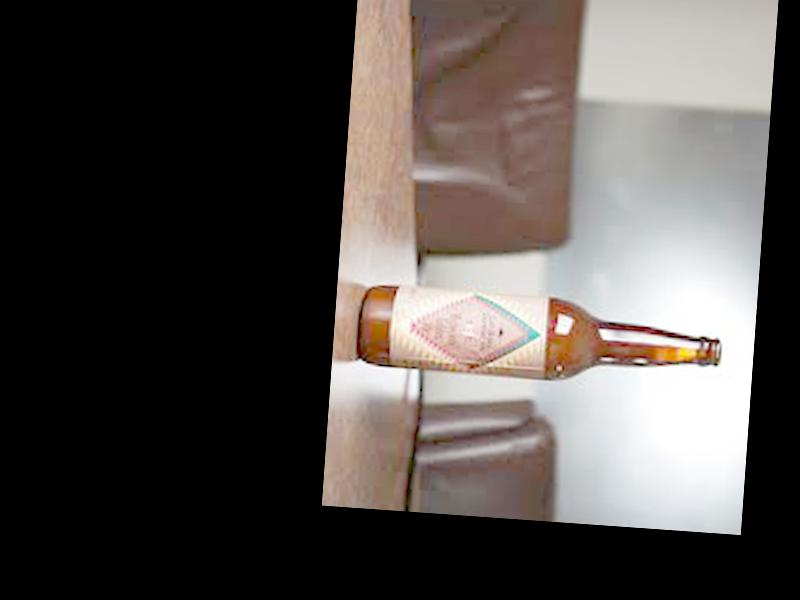Beer: (356, 286, 721, 390)
